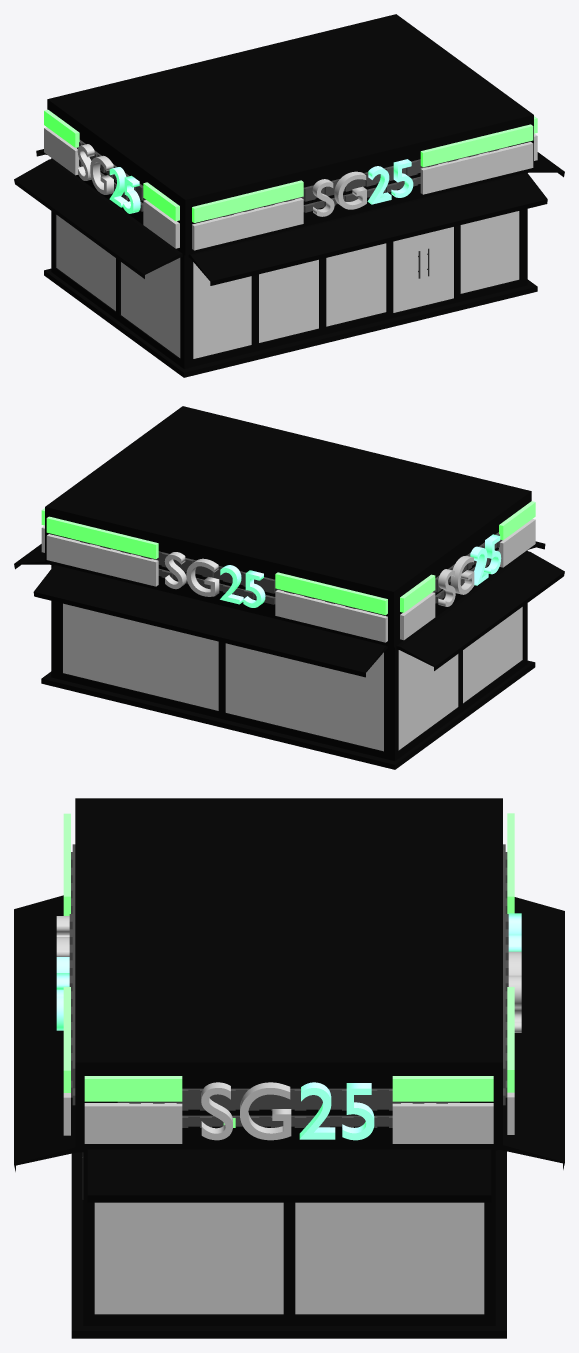
The model's file is !SG25_STORE_blendmodel.fbx.
The picture shows the model from 3 angles, top to bottom: view 1: azimuth 30°, elevation 25°; view 2: azimuth 150°, elevation 25°; view 3: azimuth 270°, elevation 25°; orthographic projection. The views are drawn at different scales.
Parts seen in each view (by area): view 1: ROOF, ROOF.001, ROOF.002; view 2: ROOF; view 3: ROOF.
Boxes of the visible parts, x1,y1,x2,y2 form: ROOF: [14, 14, 564, 377]; ROOF.001: [423, 227, 453, 305]; ROOF.002: [393, 234, 422, 312]; ROOF: [14, 406, 564, 769]; ROOF: [14, 798, 564, 1338].
Bounding box in the file's own units: 3656 × 1464 × 2668.
